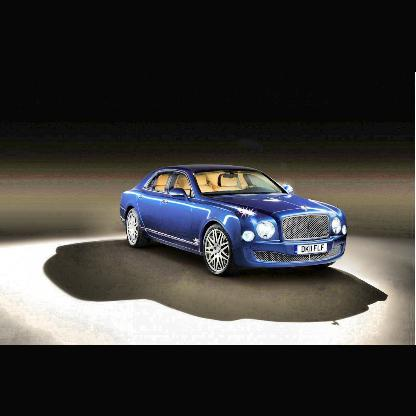Bentley Mulsanne Sedan 2011: (120, 166, 349, 278)
